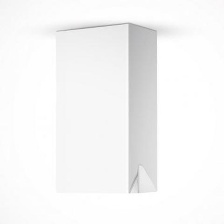carton: (52, 18, 169, 196)
